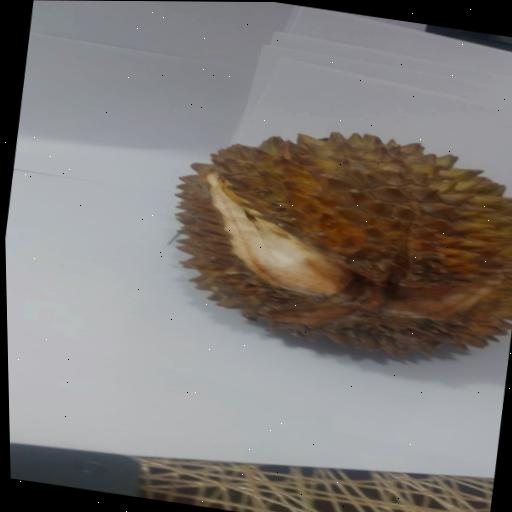mold: (325, 252, 394, 283), (263, 288, 335, 314), (399, 259, 464, 287), (372, 305, 444, 318), (320, 311, 367, 329), (344, 285, 362, 307)
